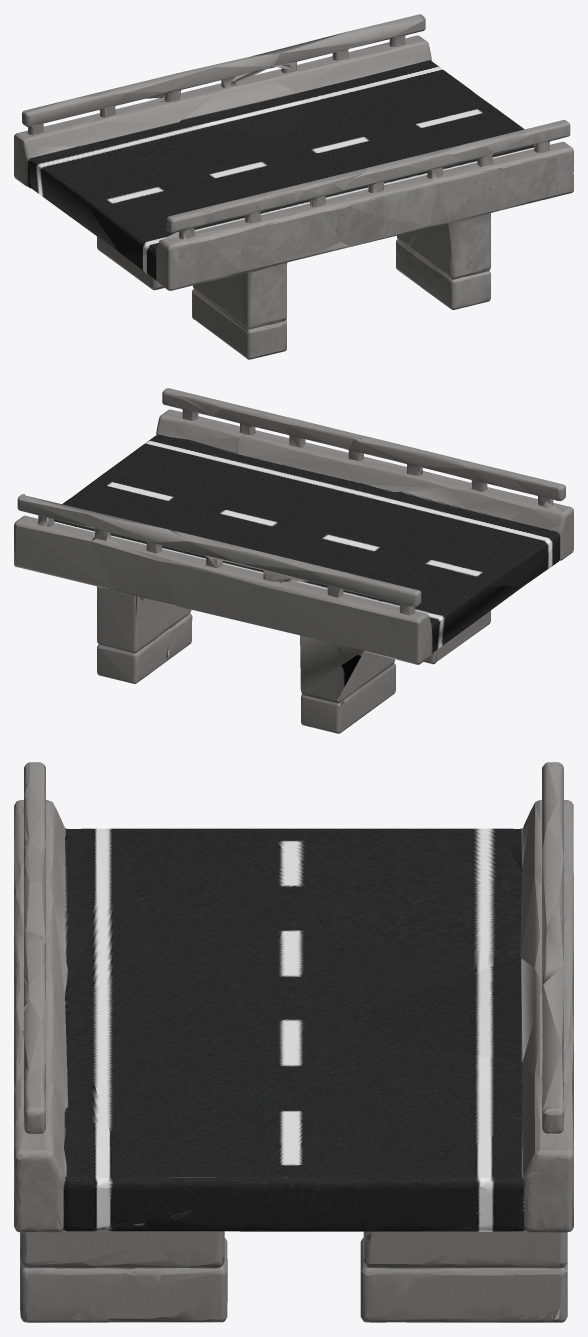
The model's file is bypass.glb.
The picture shows the model from 3 angles, top to bottom: view 1: azimuth 30°, elevation 25°; view 2: azimuth 150°, elevation 25°; view 3: azimuth 270°, elevation 25°; orthographic projection. The views are drawn at different scales.
Visible parts, largest first — view 1: output_unwrapped; view 2: output_unwrapped; view 3: output_unwrapped.
Part boxes in pixels (left/top/right/bottom): output_unwrapped: left=14, top=14, right=573, bottom=359; output_unwrapped: left=14, top=388, right=573, bottom=733; output_unwrapped: left=14, top=762, right=573, bottom=1322.
Size of the model in its own units: 1.9 by 0.7126 by 1.27.
1 material, 1 textured.
